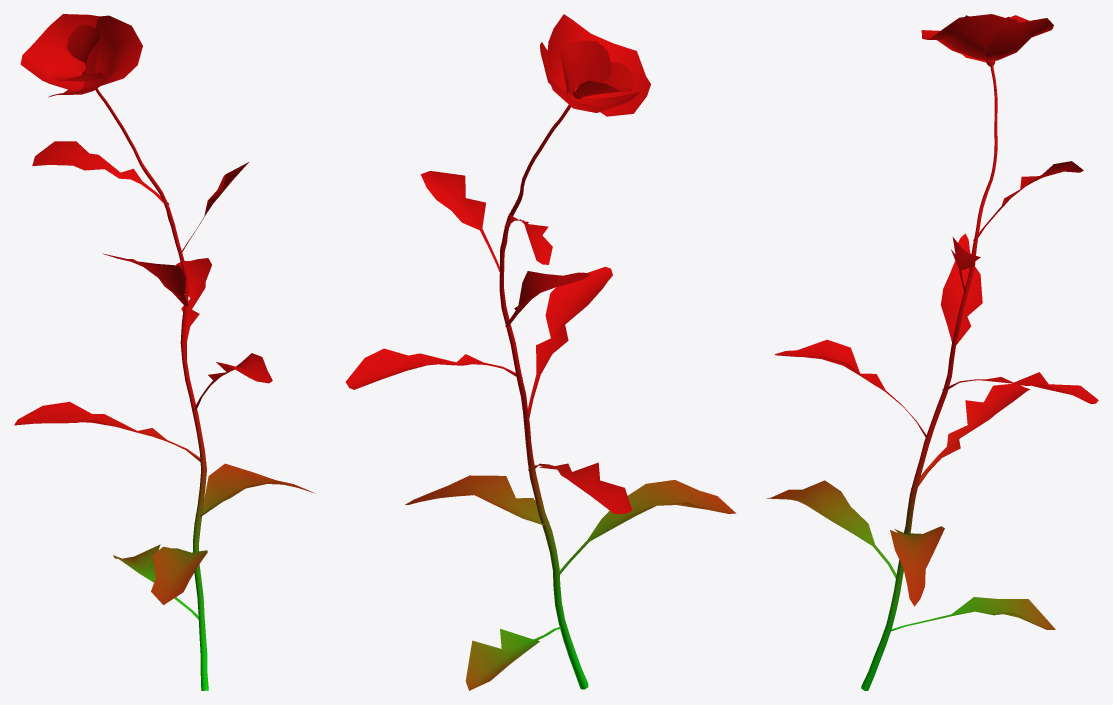
Rendered from Field Poppy_LOD0_Var10_vmcobd0ja.fbx.
3 renders of one model, left to right at view 1: azimuth 30°, elevation 25°; view 2: azimuth 150°, elevation 25°; view 3: azimuth 270°, elevation 25°, orthographic. The views are drawn at different scales.
Parts seen in each view (by area): view 1: _iyy1_Var10_LOD0; view 2: _iyy1_Var10_LOD0; view 3: _iyy1_Var10_LOD0.
Boxes of the visible parts, x1,y1,x2,y2 form: _iyy1_Var10_LOD0: [14, 14, 315, 690]; _iyy1_Var10_LOD0: [345, 14, 736, 690]; _iyy1_Var10_LOD0: [766, 14, 1098, 690].
Bounding box in the file's own units: 26.71 × 64.6 × 29.64.
